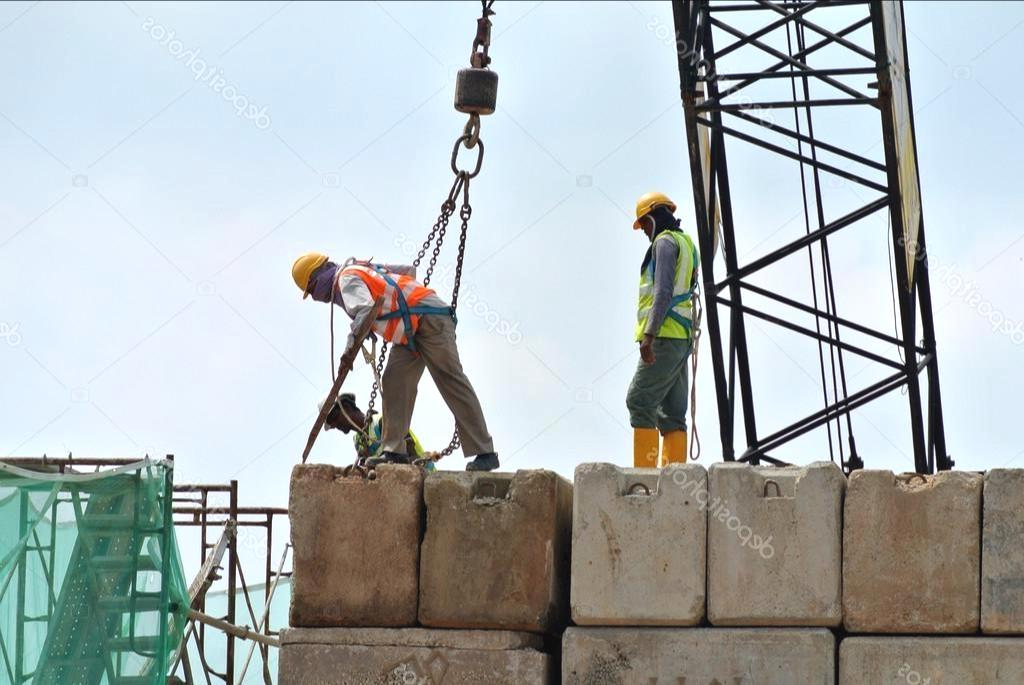person: (286, 245, 497, 469), (624, 179, 695, 474)
